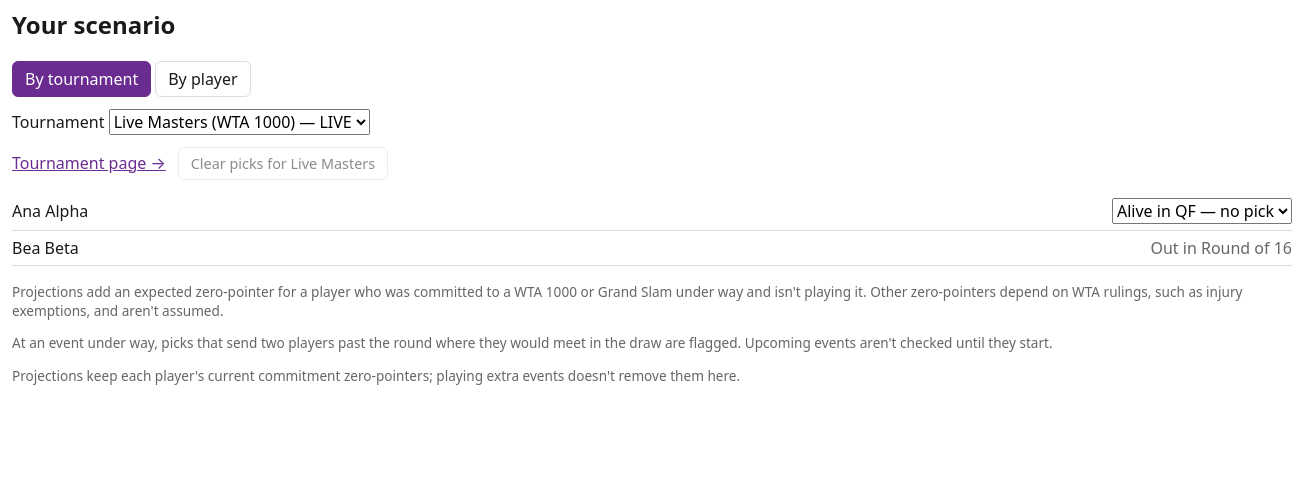
ScenarioEditor › shows warnings next to the affected dropdowns
The image size is (1304, 487).
Select "Next Open (WTA 500)" in the dropdown labelled "Tournament" at (239, 122), box x1=109 y1=109 x2=370 y2=135
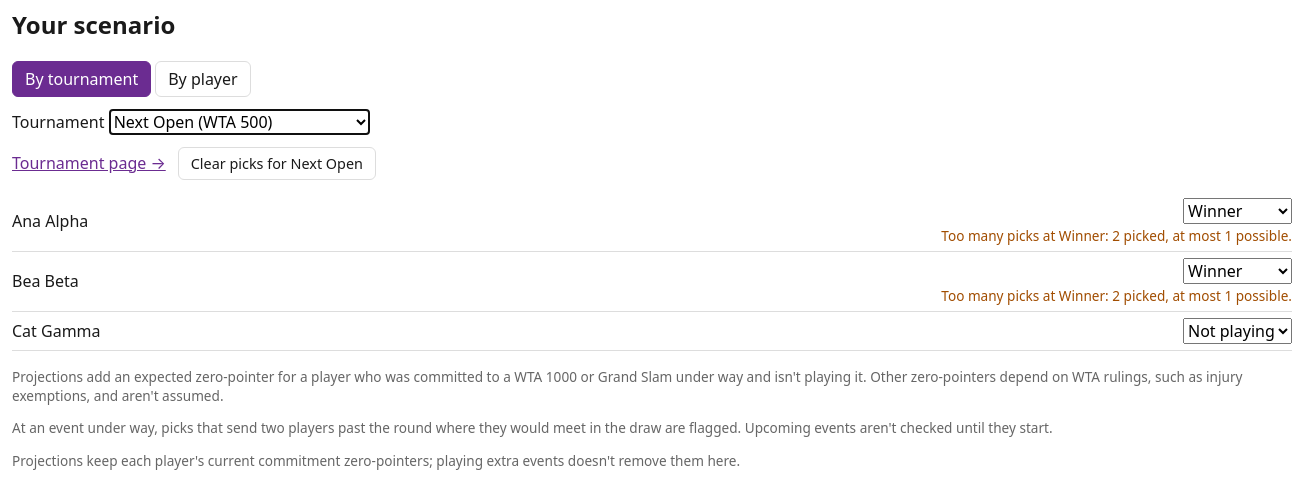
Expected: the text "Too many picks at Winner: 2 picked, at most 1 possible." is shown 2 times, x1=941 y1=226 x2=1292 y2=245; x1=941 y1=286 x2=1292 y2=305
